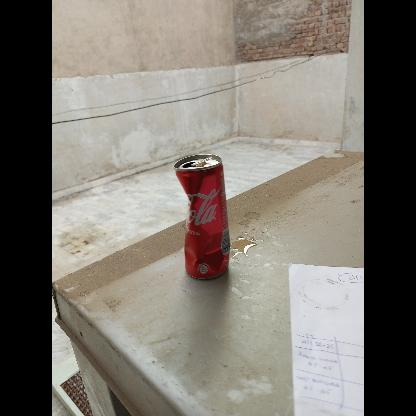Dent_Can: (178, 169, 230, 279)
Lid_Open: (180, 154, 214, 172)
Tin_Can: (172, 150, 232, 282)
